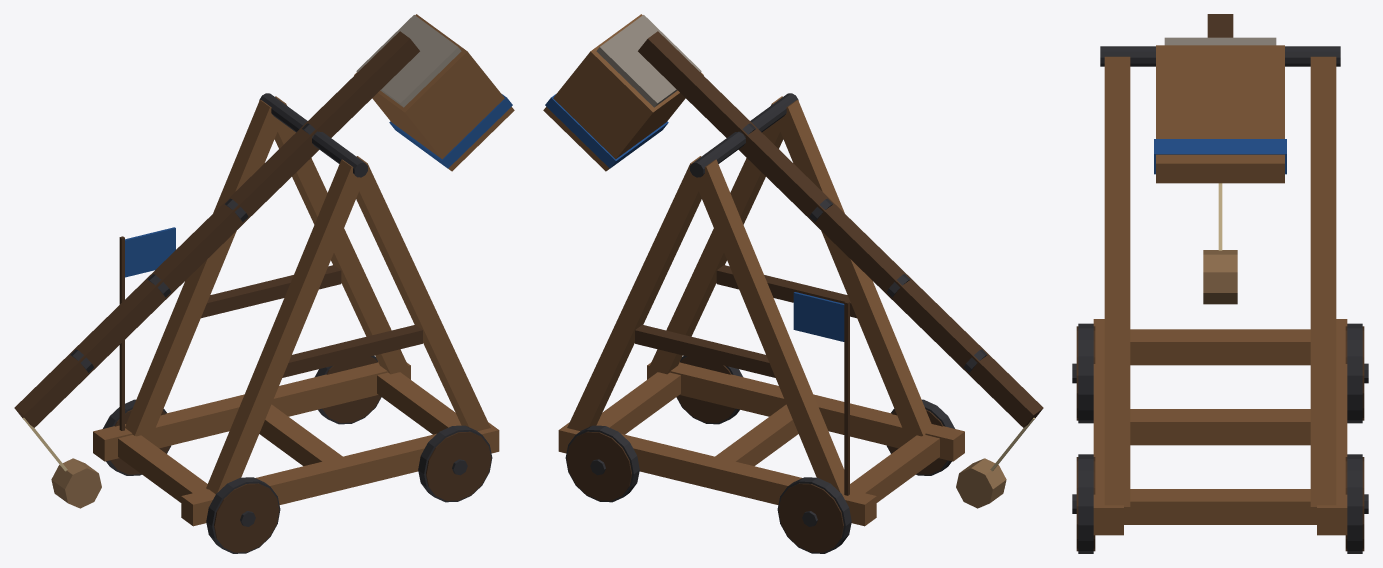
The model's file is manjaniq_isl.glb.
The picture shows the model from 3 angles, left to right: view 1: azimuth 30°, elevation 25°; view 2: azimuth 150°, elevation 25°; view 3: azimuth 270°, elevation 25°; orthographic projection. The views are drawn at different scales.
Visible parts, largest first — view 1: Body, Arm; view 2: Body, Arm; view 3: Body, Arm.
Part boxes in pixels (x1,y1,x2,y2): Body: (93,93,499,553); Arm: (14,14,514,508); Body: (558,93,964,553); Arm: (543,14,1043,508); Body: (1072,46,1368,553); Arm: (1154,14,1286,304).
Size of the model in its own units: 7.98 by 6.9 by 3.45.
